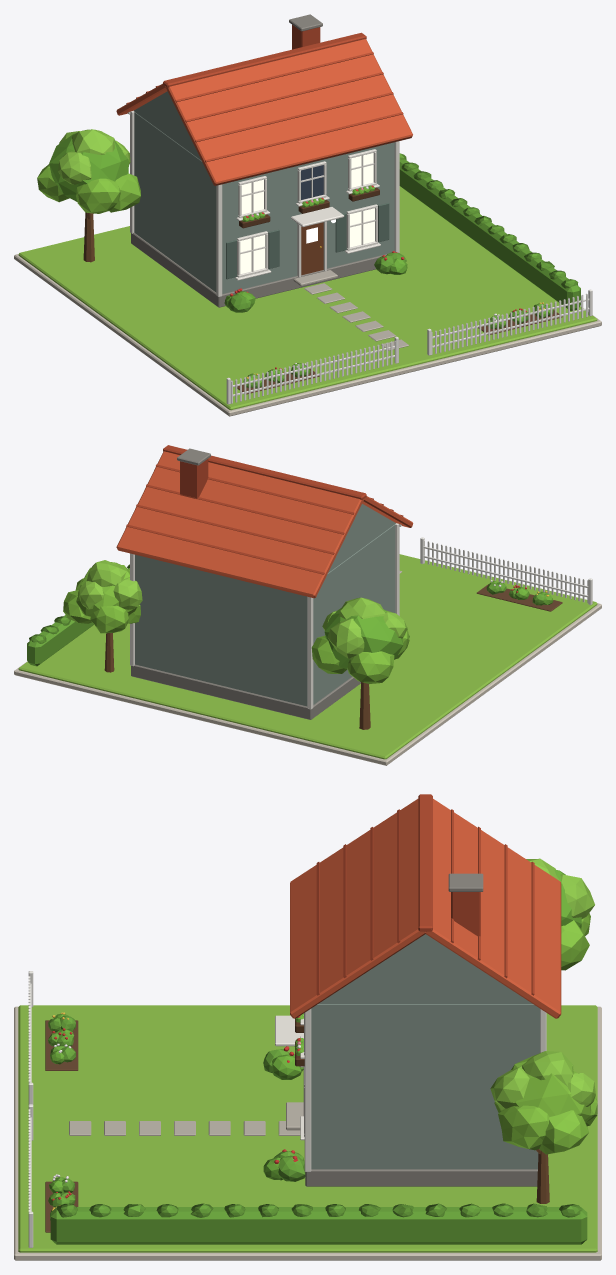
File: lote_casa_terracota.glb
3 views of the same model, one above another, from view 1: azimuth 30°, elevation 25°; view 2: azimuth 150°, elevation 25°; view 3: azimuth 270°, elevation 25° (orthographic). The views are drawn at different scales.
Parts seen in each view (by area): view 1: lote_casa_terracota_01, lote_casa_terracota_05, lote_casa_terracota_03, lote_casa_terracota_22, lote_casa_terracota_04, lote_casa_terracota_20, lote_casa_terracota_06, lote_casa_terracota_00, lote_casa_terracota_15, lote_casa_terracota_02, lote_casa_terracota_07, lote_casa_terracota_25 (+7 smaller); view 2: lote_casa_terracota_01, lote_casa_terracota_03, lote_casa_terracota_05, lote_casa_terracota_06, lote_casa_terracota_25, lote_casa_terracota_26, lote_casa_terracota_00, lote_casa_terracota_02, lote_casa_terracota_20, lote_casa_terracota_22, lote_casa_terracota_15, lote_casa_terracota_04 (+2 smaller); view 3: lote_casa_terracota_01, lote_casa_terracota_03, lote_casa_terracota_05, lote_casa_terracota_22, lote_casa_terracota_00, lote_casa_terracota_06, lote_casa_terracota_25, lote_casa_terracota_02, lote_casa_terracota_26, lote_casa_terracota_12, lote_casa_terracota_04, lote_casa_terracota_15 (+3 smaller).
Part boxes in pixels (<box>): lote_casa_terracota_01: <box>18,186,597,410</box>; lote_casa_terracota_05: <box>116,39,412,185</box>; lote_casa_terracota_03: <box>134,91,394,293</box>; lote_casa_terracota_22: <box>224,153,580,388</box>; lote_casa_terracota_04: <box>127,110,399,296</box>; lote_casa_terracota_20: <box>226,289,592,404</box>; lote_casa_terracota_06: <box>126,25,403,162</box>; lote_casa_terracota_00: <box>14,254,601,416</box>; lote_casa_terracota_15: <box>49,133,545,387</box>; lote_casa_terracota_02: <box>131,14,386,307</box>; lote_casa_terracota_07: <box>240,153,374,273</box>; lote_casa_terracota_25: <box>37,164,140,213</box>; lote_casa_terracota_01: <box>18,554,597,759</box>; lote_casa_terracota_03: <box>135,504,395,706</box>; lote_casa_terracota_05: <box>116,451,413,598</box>; lote_casa_terracota_06: <box>126,445,403,574</box>; lote_casa_terracota_25: <box>63,565,409,683</box>; lote_casa_terracota_26: <box>79,560,407,658</box>; lote_casa_terracota_00: <box>14,603,601,765</box>; lote_casa_terracota_02: <box>131,448,360,719</box>; lote_casa_terracota_20: <box>420,537,592,604</box>; lote_casa_terracota_22: <box>27,564,548,666</box>; lote_casa_terracota_15: <box>324,581,553,668</box>; lote_casa_terracota_04: <box>130,523,401,709</box>; lote_casa_terracota_01: <box>18,1005,597,1252</box>; lote_casa_terracota_03: <box>311,934,539,1169</box>; lote_casa_terracota_05: <box>290,799,561,1018</box>; lote_casa_terracota_22: <box>48,1015,587,1244</box>; lote_casa_terracota_00: <box>14,1006,601,1260</box>; lote_casa_terracota_06: <box>316,794,534,995</box>; lote_casa_terracota_25: <box>494,913,597,1154</box>; lote_casa_terracota_02: <box>305,873,537,1186</box>; lote_casa_terracota_26: <box>490,858,595,1110</box>; lote_casa_terracota_12: <box>69,1102,303,1135</box>; lote_casa_terracota_04: <box>275,1009,546,1171</box>; lote_casa_terracota_15: <box>48,870,581,1217</box>.
Size of the model in its own units: 16 by 8.82 by 16.
